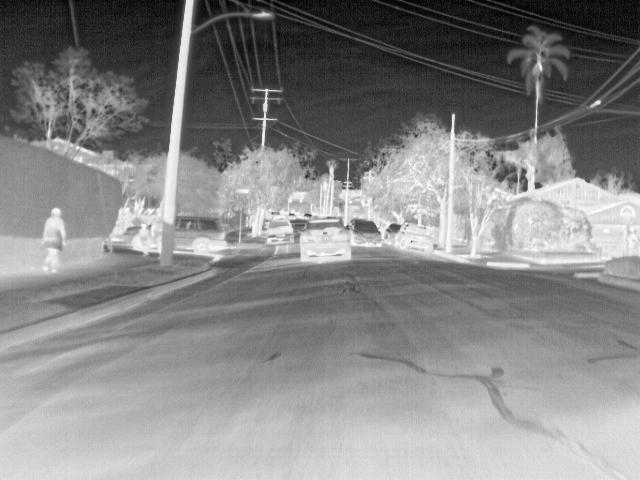car: (298, 218, 350, 264), (177, 214, 227, 255), (397, 223, 435, 253), (350, 218, 384, 246), (263, 218, 295, 246), (382, 223, 403, 244), (300, 210, 318, 221), (376, 222, 388, 233)
person: (42, 207, 69, 278), (139, 222, 154, 254)
